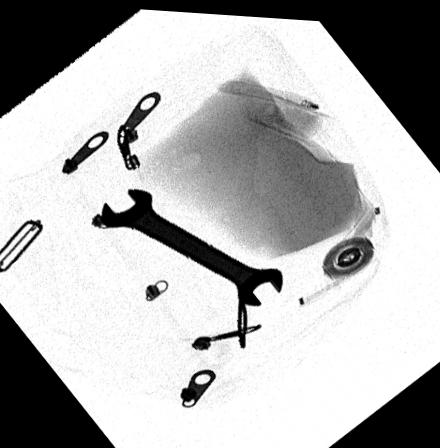Wrench: (97, 186, 284, 304)
